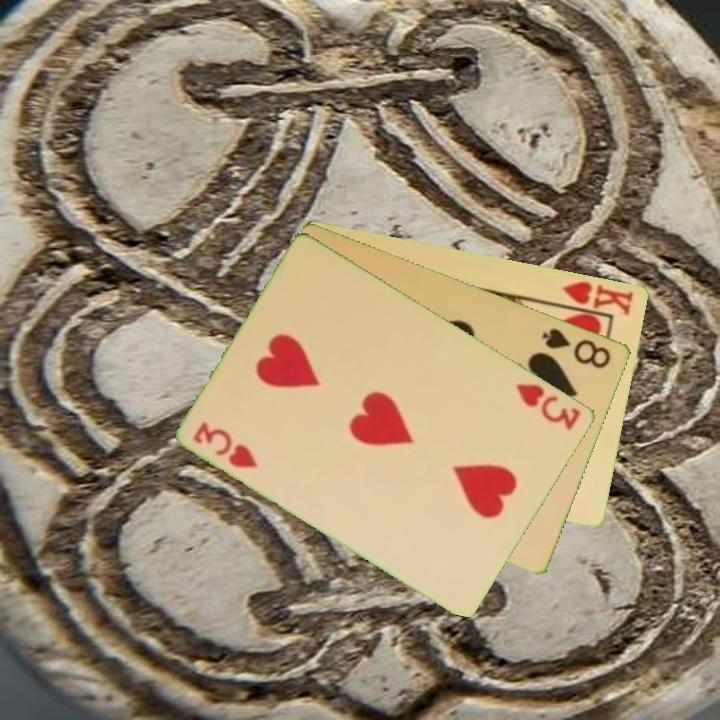3h: (512, 379, 584, 433), (190, 417, 261, 471)
8s: (539, 324, 615, 372)
Kh: (551, 277, 637, 318)
